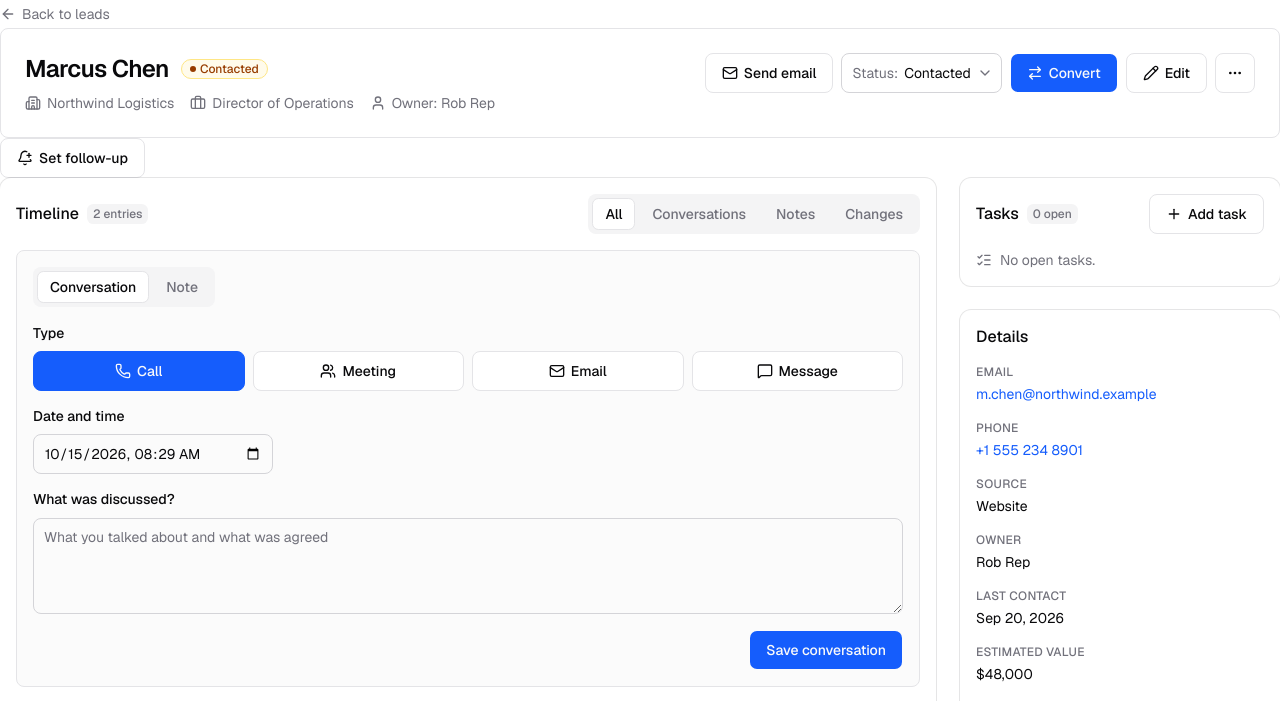
Scenario: LeadDetailPage › marks the lead as lost from the dialog and then shows the lost state
The image size is (1280, 701).
Expected: the heading "Marcus Chen" is shown, [25,53,169,85]
Step 1. Click the button named "More actions" → (1235, 73), box [1215,53,1255,93]
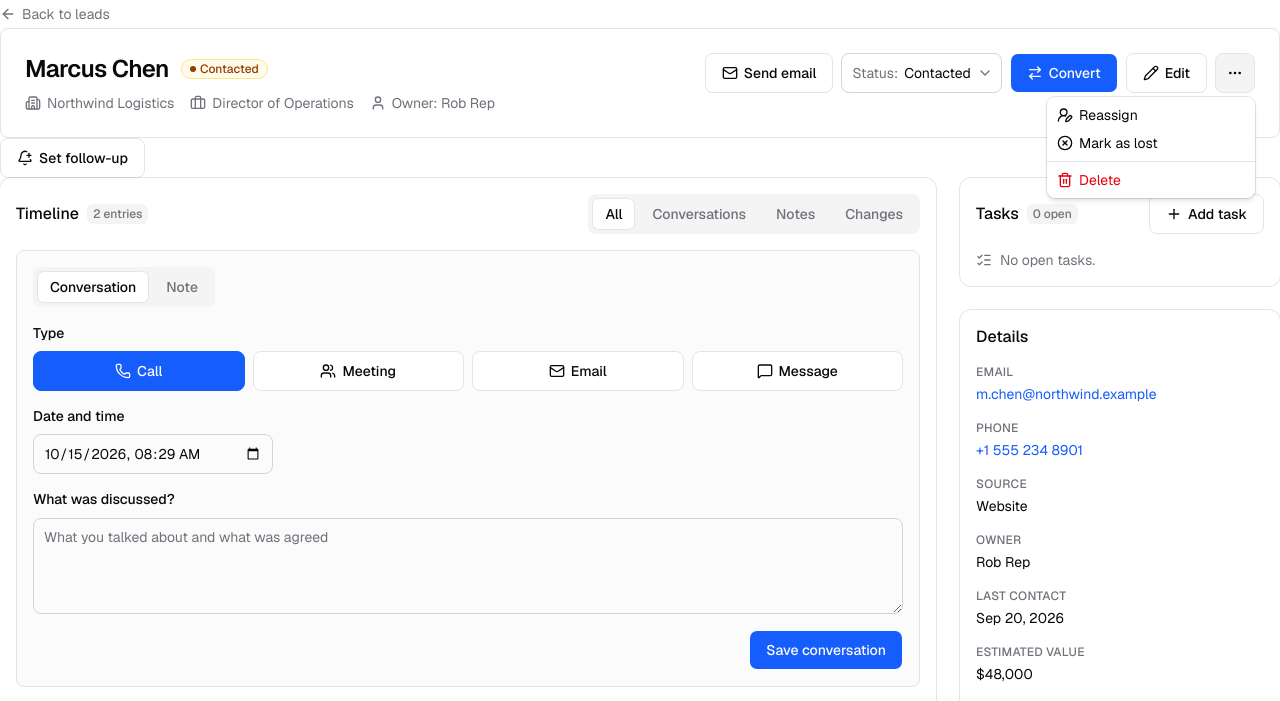
Step 2. Click the menu item "Mark as lost" → (1107, 143), box [1057,134,1158,152]
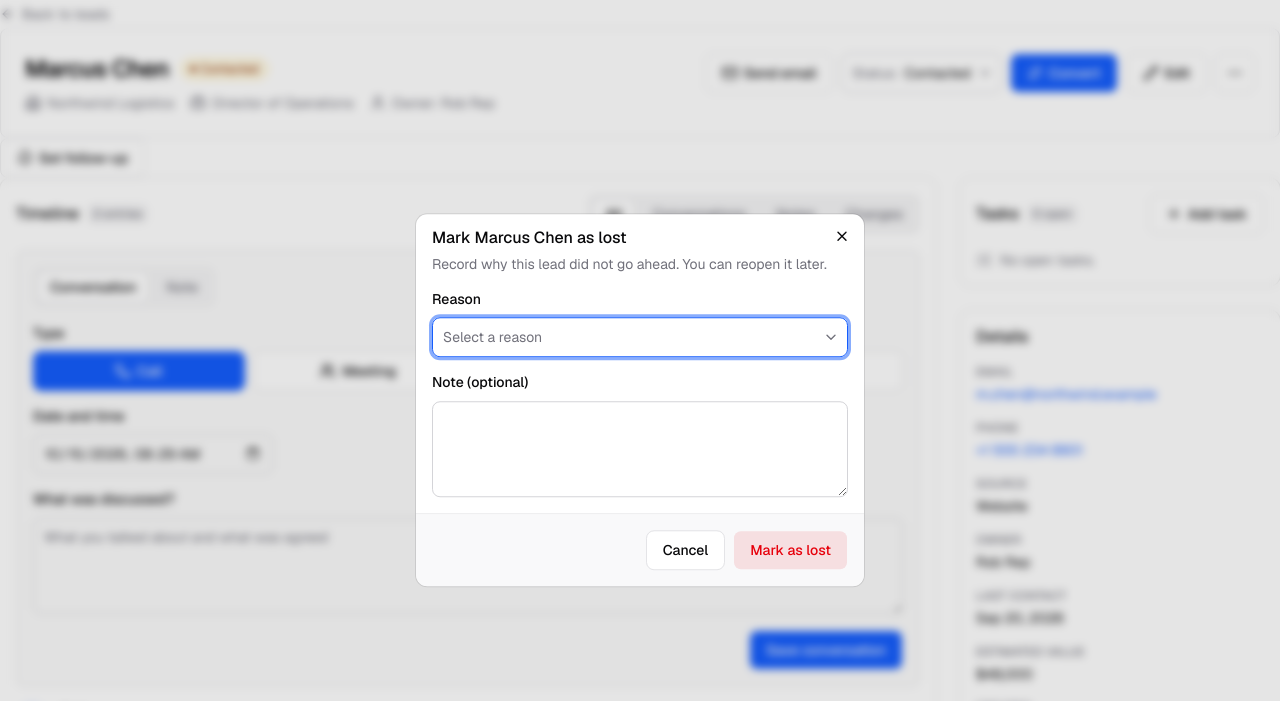
Step 3. Click the dropdown labelled "reason" → (493, 338), box [432,318,848,358]
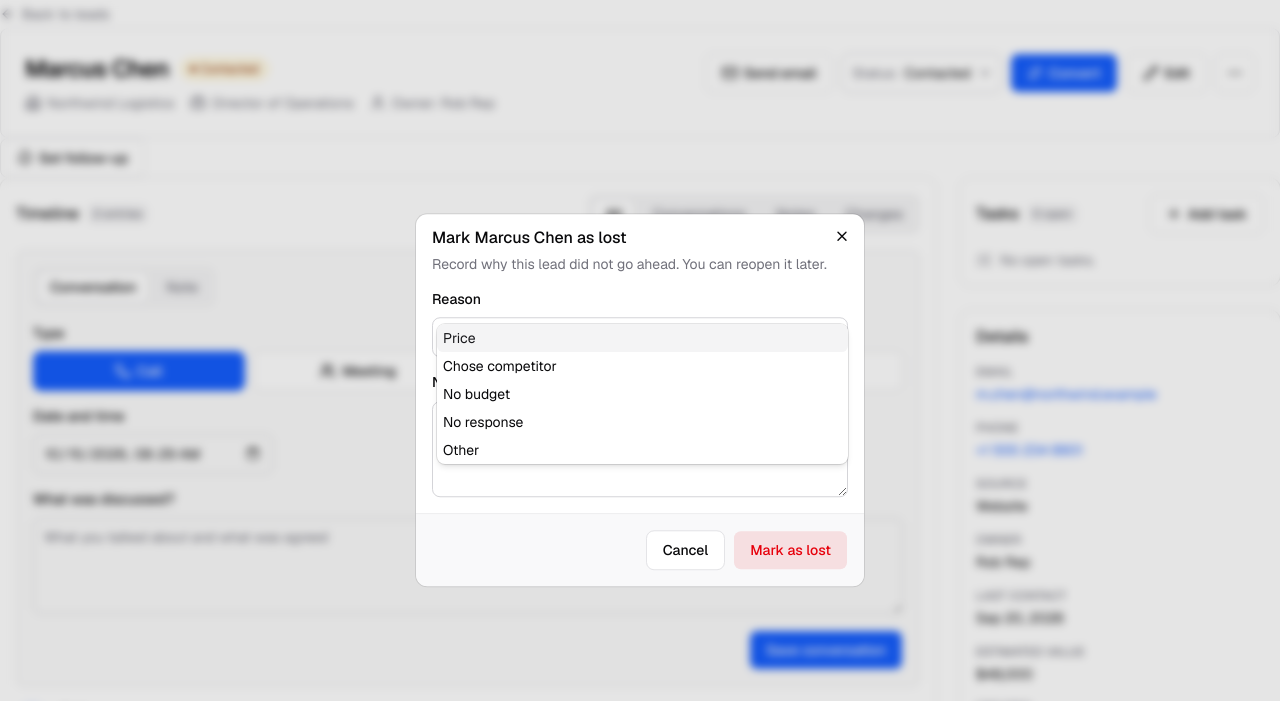
Now the options read "Price", "Chose competitor", "No budget", "No response", "Other", in this order
Step 4. Click the option "No budget" → (477, 394), box [443,384,510,402]
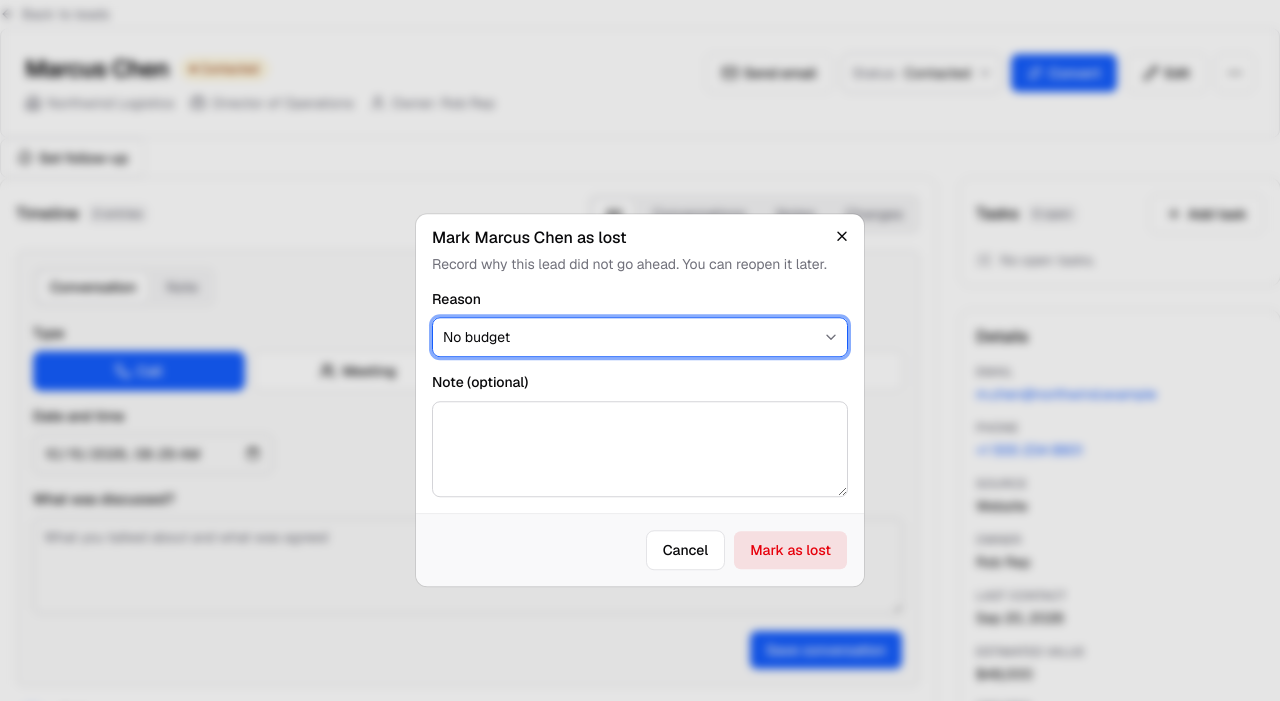
Step 5. Click the button "Mark as lost" → (791, 550), box [733,530,848,570]
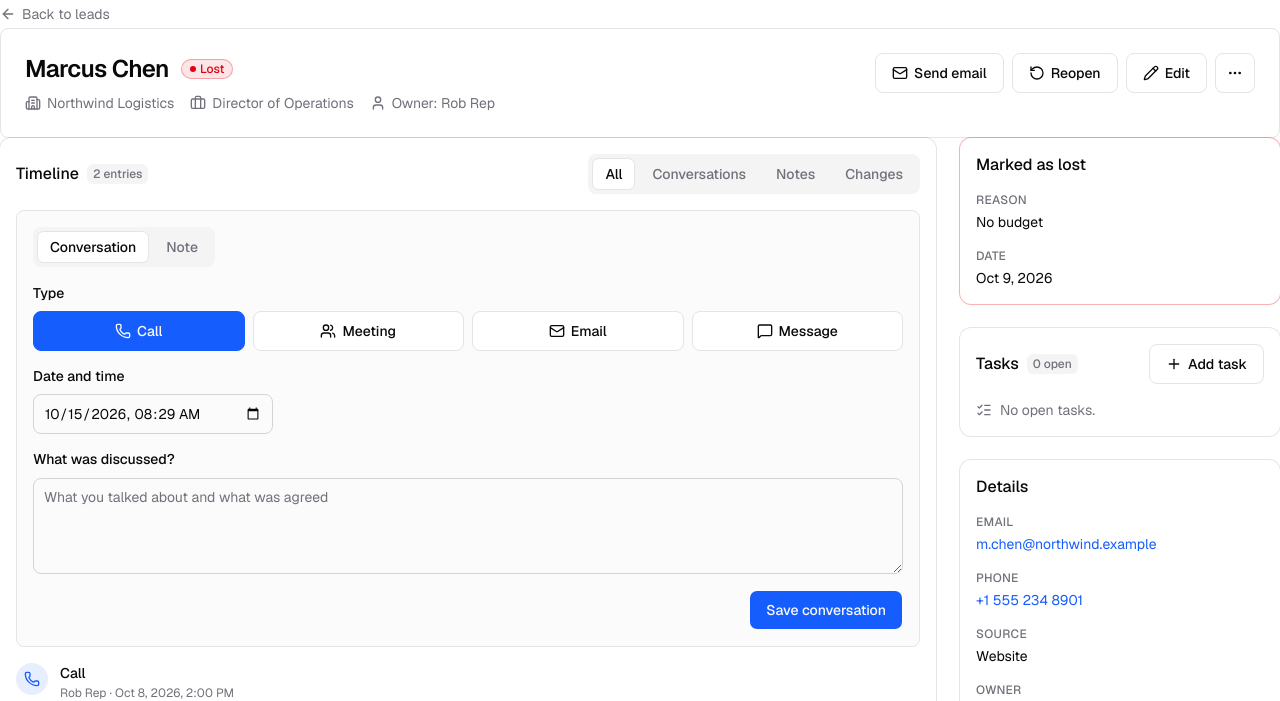
Now the text "Marked as lost" is shown, box [976,154,1086,175]
Now the dialog is gone
